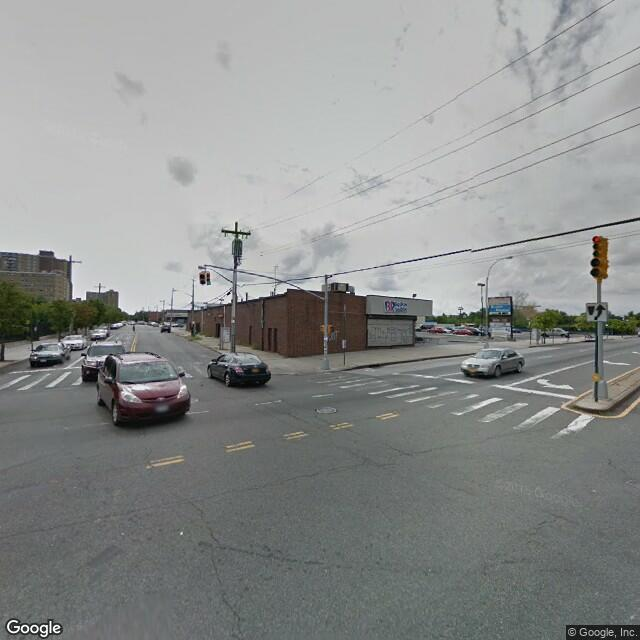litter: (178, 528, 188, 536), (588, 488, 598, 491)
